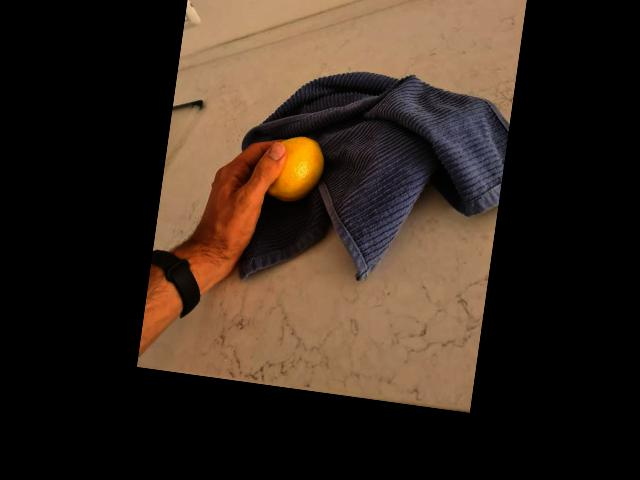lemon: (252, 131, 327, 209)
